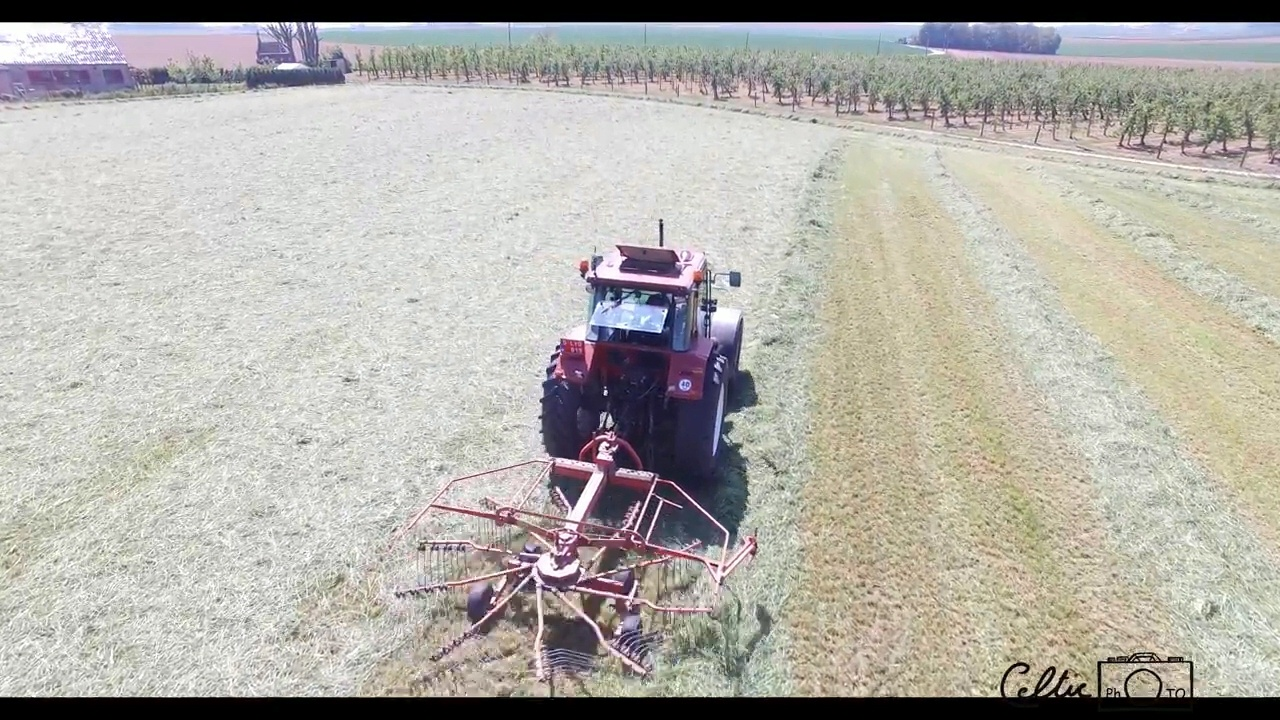traktor: (532, 214, 748, 493)
